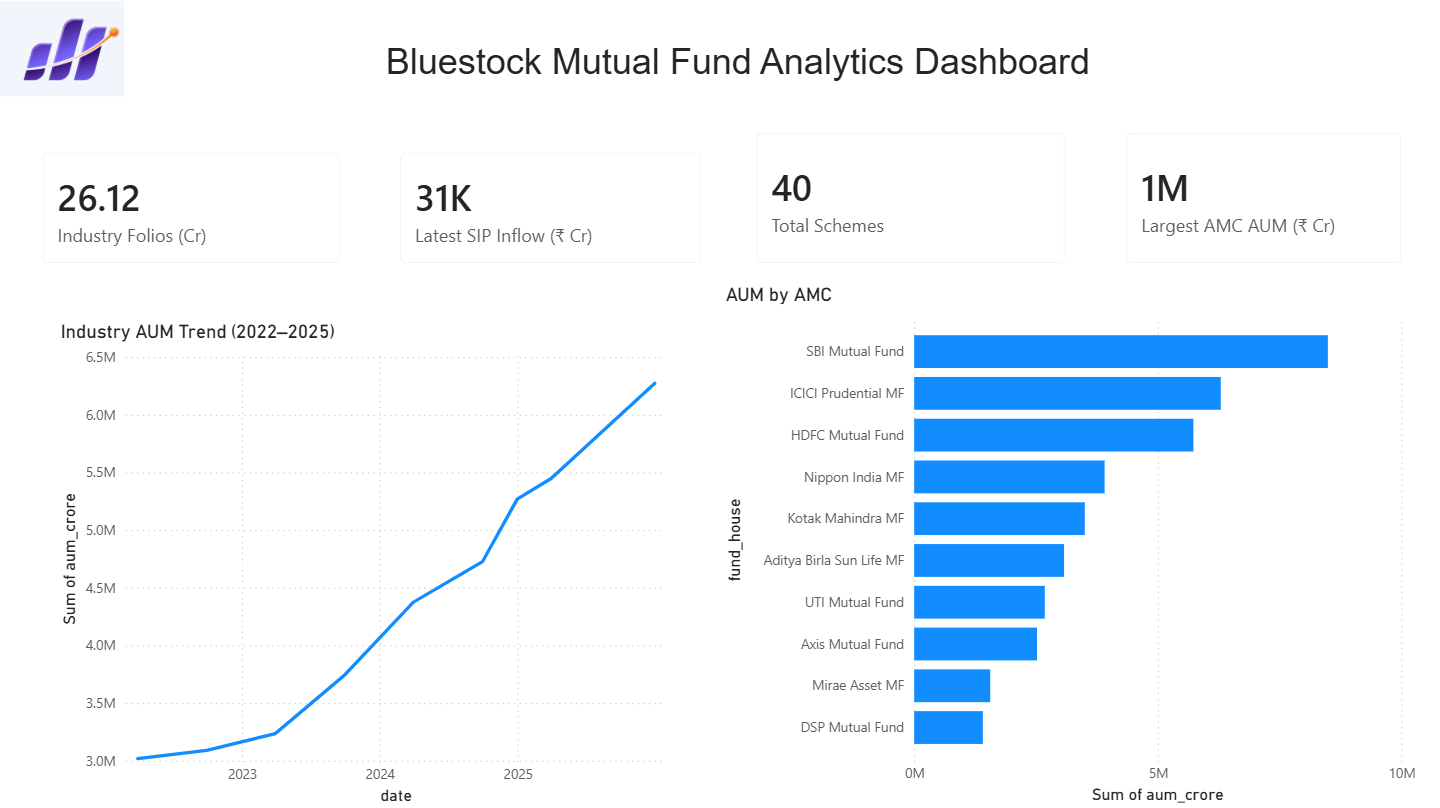

Layout of this report page (visuals, bound fields, positions):
{"tool":"powerbi","page":{"name":"Industry Overview","canvas":[1280,720],"ordinal":0},"visuals":[{"type":"cardVisual","title":"Max of aum_crore","fields":{"Data":["Max(03_aum_by_fund_house_cleaned.aum_crore)"]},"box":[984.3,101.4,278.6,150],"z":0},{"type":"cardVisual","fields":{"Data":["Max(04_monthly_sip_inflows_cleaned.sip_inflow_crore)"]},"box":[338.6,118.6,301.4,132.9],"z":1000},{"type":"cardVisual","fields":{"Data":["Max(06_industry_folio_count_cleaned.total_folios_crore)"]},"box":[21.4,118.6,298.6,132.9],"z":2000},{"type":"cardVisual","fields":{"Data":["Count(01_fund_master_cleaned.amfi_code)"]},"box":[655.7,101.4,308.6,150],"z":3000},{"type":"lineChart","title":"Industry AUM Trend (2022–2025)","fields":{"Y":["Sum(03_aum_by_fund_house_cleaned.aum_crore)"],"Category":["03_aum_by_fund_house_cleaned.date"]},"box":[48.6,284.3,551.4,435.7],"z":4000},{"type":"clusteredBarChart","title":"AUM by AMC","fields":{"Y":["Sum(03_aum_by_fund_house_cleaned.aum_crore)"],"Category":["03_aum_by_fund_house_cleaned.fund_house"]},"box":[640,251.4,622.9,468.6],"z":5000},{"type":"textbox","box":[338,32,714,54],"z":5002},{"type":"image","box":[0,0,110,86],"z":5003}]}

Visuals, with their boxes in screenshot pixels (x1, y1, x2, y2), scaled from the page's 1280x720 canvas onto the 1440x808 screenshot:
"Max of aum_crore" cardVisual: l=1107, t=114, r=1421, b=282
cardVisual - Max(04_monthly_sip_inflows_cleaned.sip_inflow_crore): l=381, t=133, r=720, b=282
cardVisual - Max(06_industry_folio_count_cleaned.total_folios_crore): l=24, t=133, r=360, b=282
cardVisual - Count(01_fund_master_cleaned.amfi_code): l=738, t=114, r=1085, b=282
"Industry AUM Trend (2022–2025)" lineChart: l=55, t=319, r=675, b=807
"AUM by AMC" clusteredBarChart: l=720, t=282, r=1421, b=807
textbox: l=380, t=36, r=1184, b=97
image: l=0, t=0, r=124, b=97
